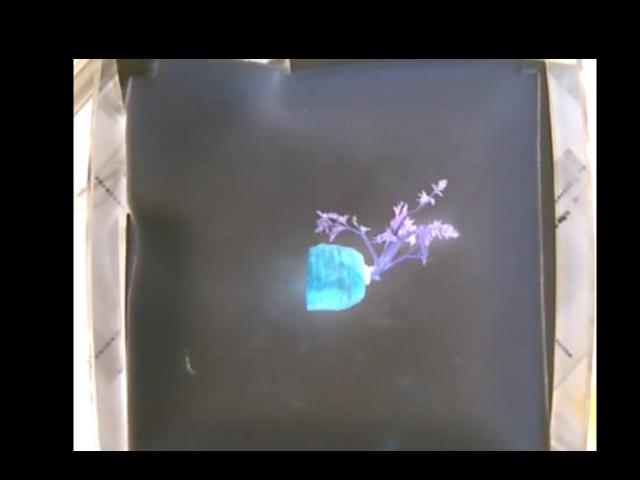Carrot: (307, 179, 461, 309)
